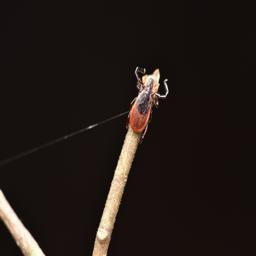Ixodes scapularis: (126, 66, 168, 138)
